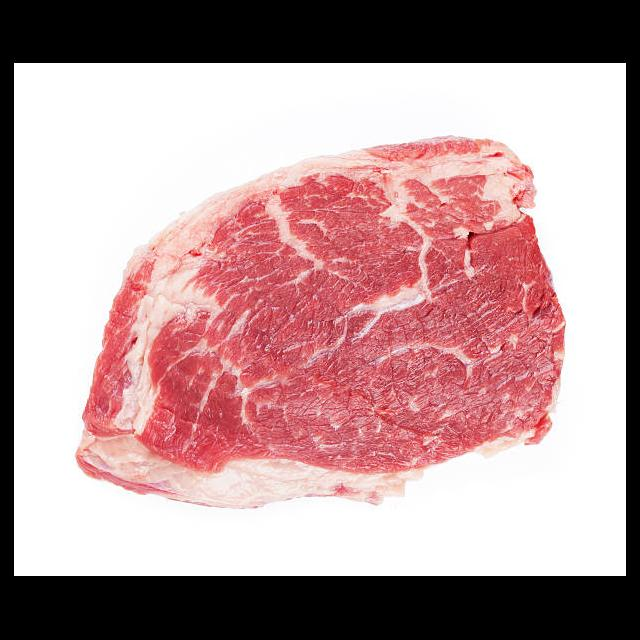beef: (74, 136, 569, 512)
